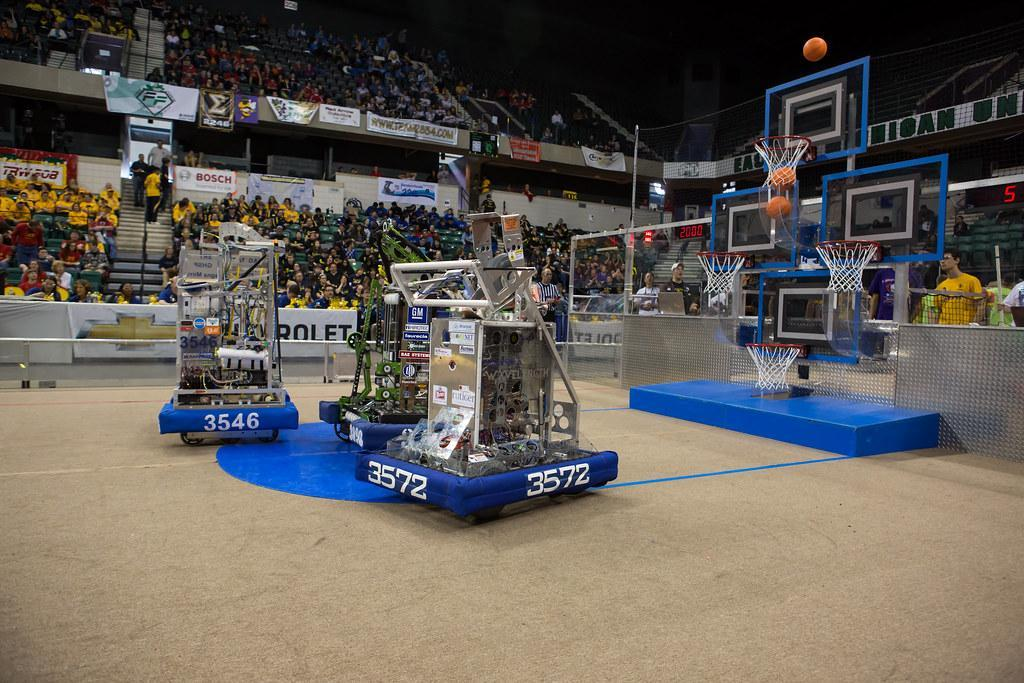robot: (352, 210, 620, 517), (319, 221, 564, 447), (156, 221, 303, 450)
